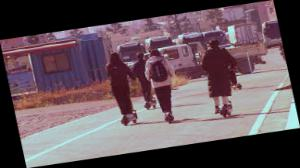nonhelmet: (197, 39, 242, 121), (101, 48, 143, 128), (142, 47, 184, 123), (129, 51, 159, 110), (218, 46, 243, 92)
